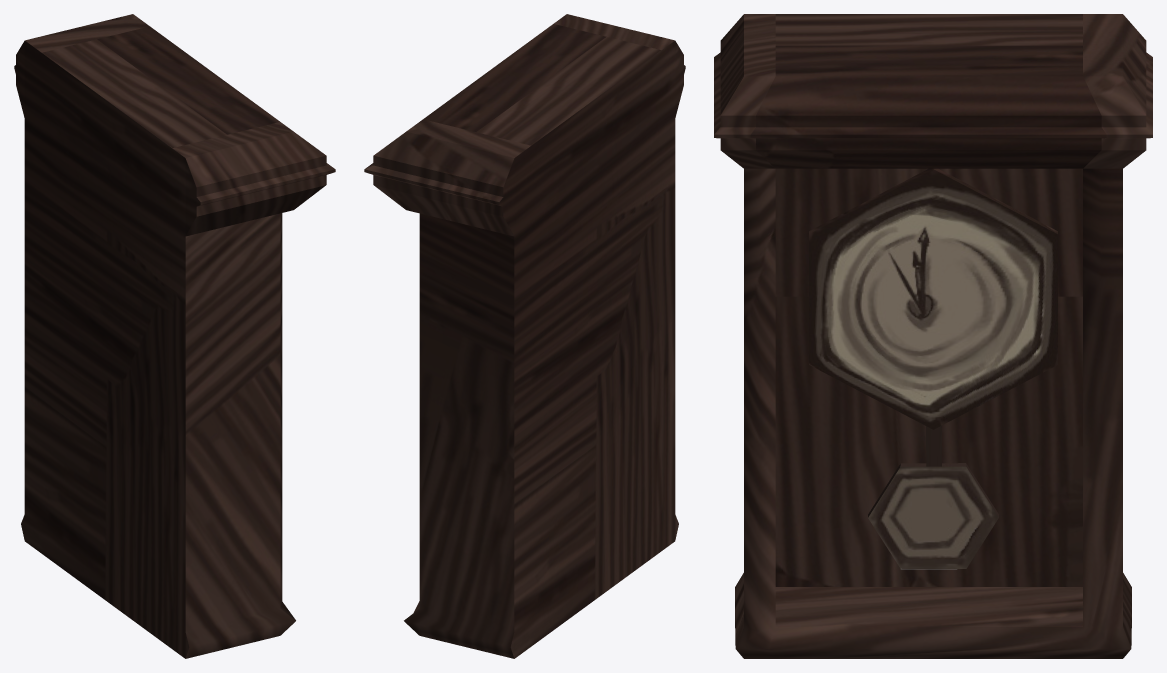
The model's file is seinäkello_olohuone.fbx.
3 renders of one model, left to right at view 1: azimuth 30°, elevation 25°; view 2: azimuth 150°, elevation 25°; view 3: azimuth 270°, elevation 25°, orthographic. The views are drawn at different scales.
Visible parts, largest first — view 1: pCube2; view 2: pCube2; view 3: pCube2.
Part boxes in pixels (x1,y1,x2,y2): pCube2: [14, 14, 335, 658]; pCube2: [364, 14, 685, 658]; pCube2: [714, 14, 1152, 658].
Bounding box in the file's own units: 1.94 × 6.76 × 4.55.
